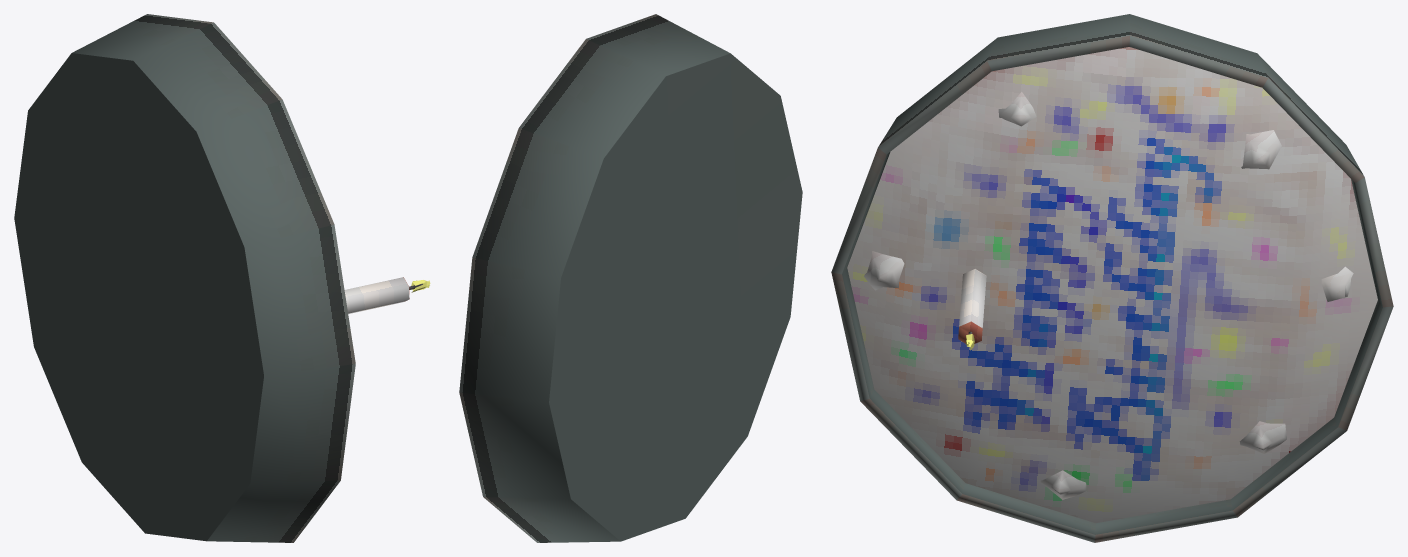
The model's file is H_CakePan_Icing_Candle.fbx.
3 views of the same model, side by side, from view 1: azimuth 30°, elevation 25°; view 2: azimuth 150°, elevation 25°; view 3: azimuth 270°, elevation 25° (orthographic). The views are drawn at different scales.
Parts seen in each view (by area): view 1: Cake.002; view 2: Cake.002; view 3: Cake.002.
Part boxes in pixels (x1=…): Cake.002: x1=14, y1=14, x2=430, y2=542; Cake.002: x1=459, y1=14, x2=802, y2=542; Cake.002: x1=831, y1=14, x2=1393, y2=542.
Size of the model in its own units: 24.42 by 52.16 by 52.16.
